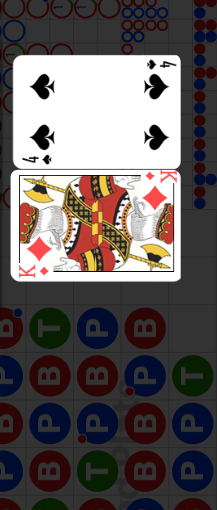4S: (143, 59, 176, 72)
KD: (16, 265, 50, 280)
